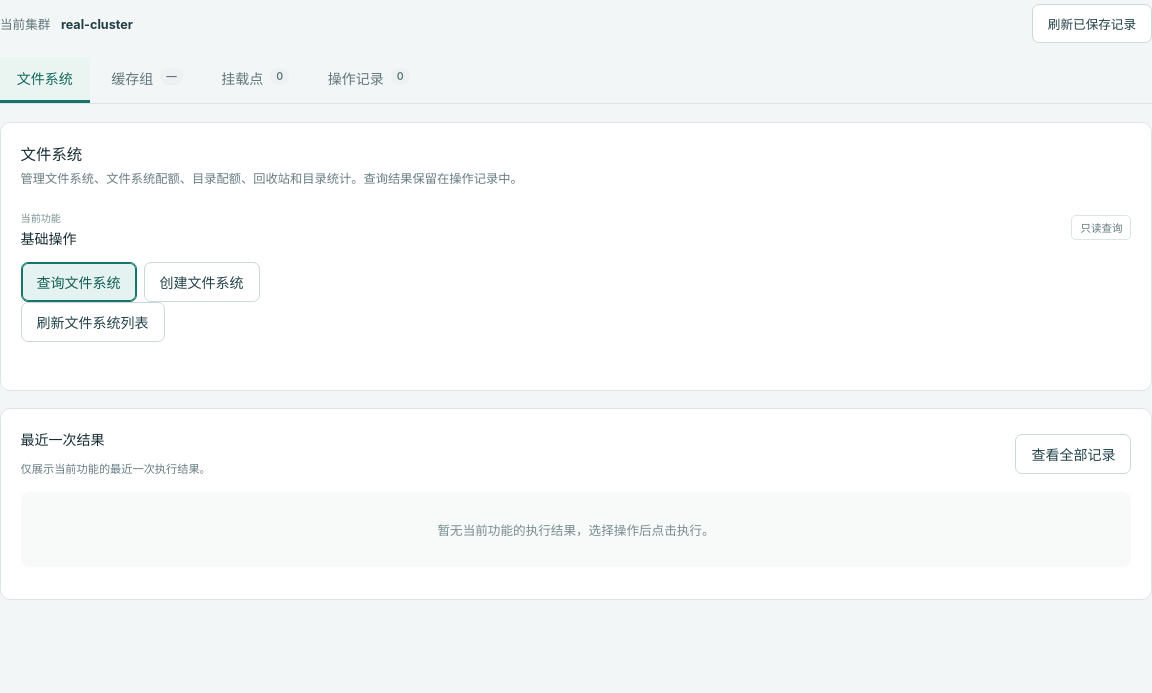
partial saved resources have a clear outcome label
Click the button "缓存组 —" at (147, 80), box [94, 56, 200, 103]
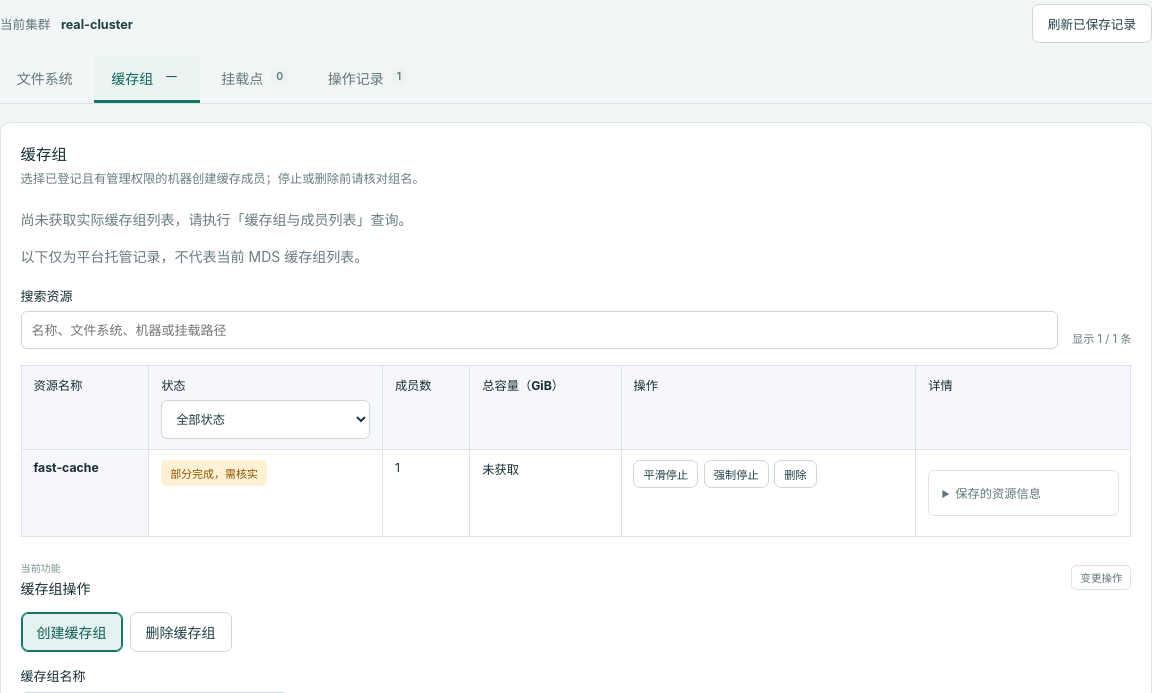
Result: the cell "部分完成，需核实" is shown at [149, 449, 382, 536]
